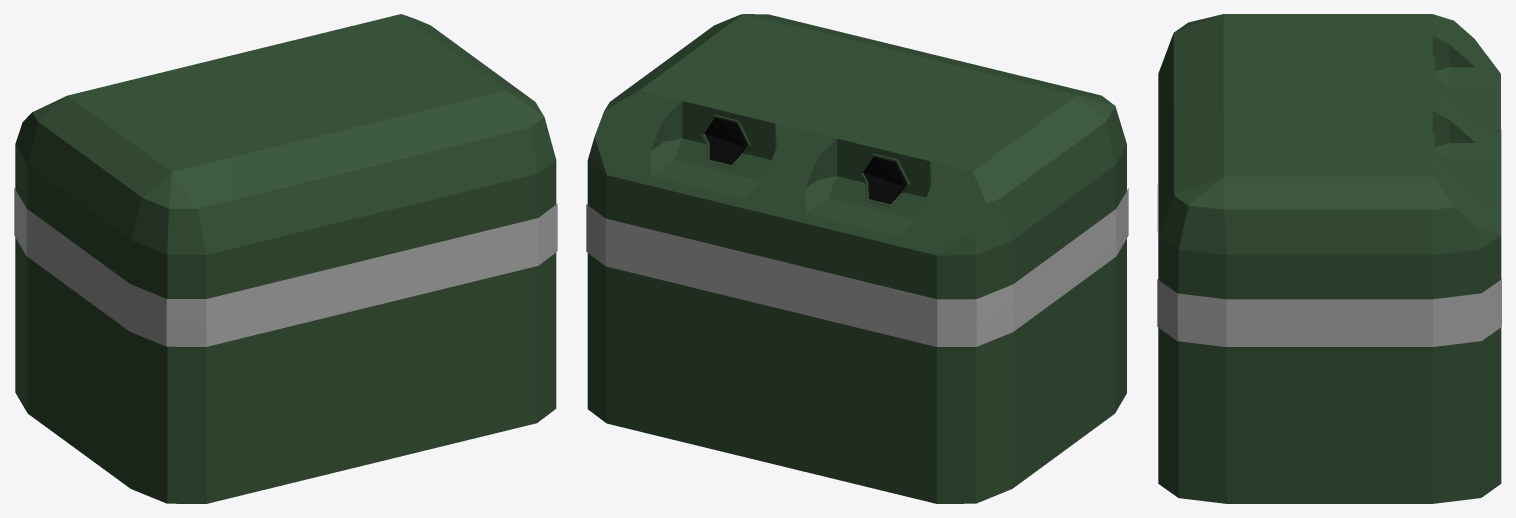
The model's file is vr_glass_bin.glb.
3 views of the same model, side by side, from view 1: azimuth 30°, elevation 25°; view 2: azimuth 150°, elevation 25°; view 3: azimuth 270°, elevation 25° (orthographic).
Visible parts, largest first — view 1: Trash_02; view 2: Trash_02; view 3: Trash_02.
Part boxes in pixels (left/top/right/bottom): Trash_02: left=14, top=14, right=557, bottom=503; Trash_02: left=586, top=14, right=1128, bottom=503; Trash_02: left=1157, top=14, right=1501, bottom=503.
Bounding box in the file's own units: 2.56 × 1.81 × 1.84.
Materials: 1 (1 with a texture image).
